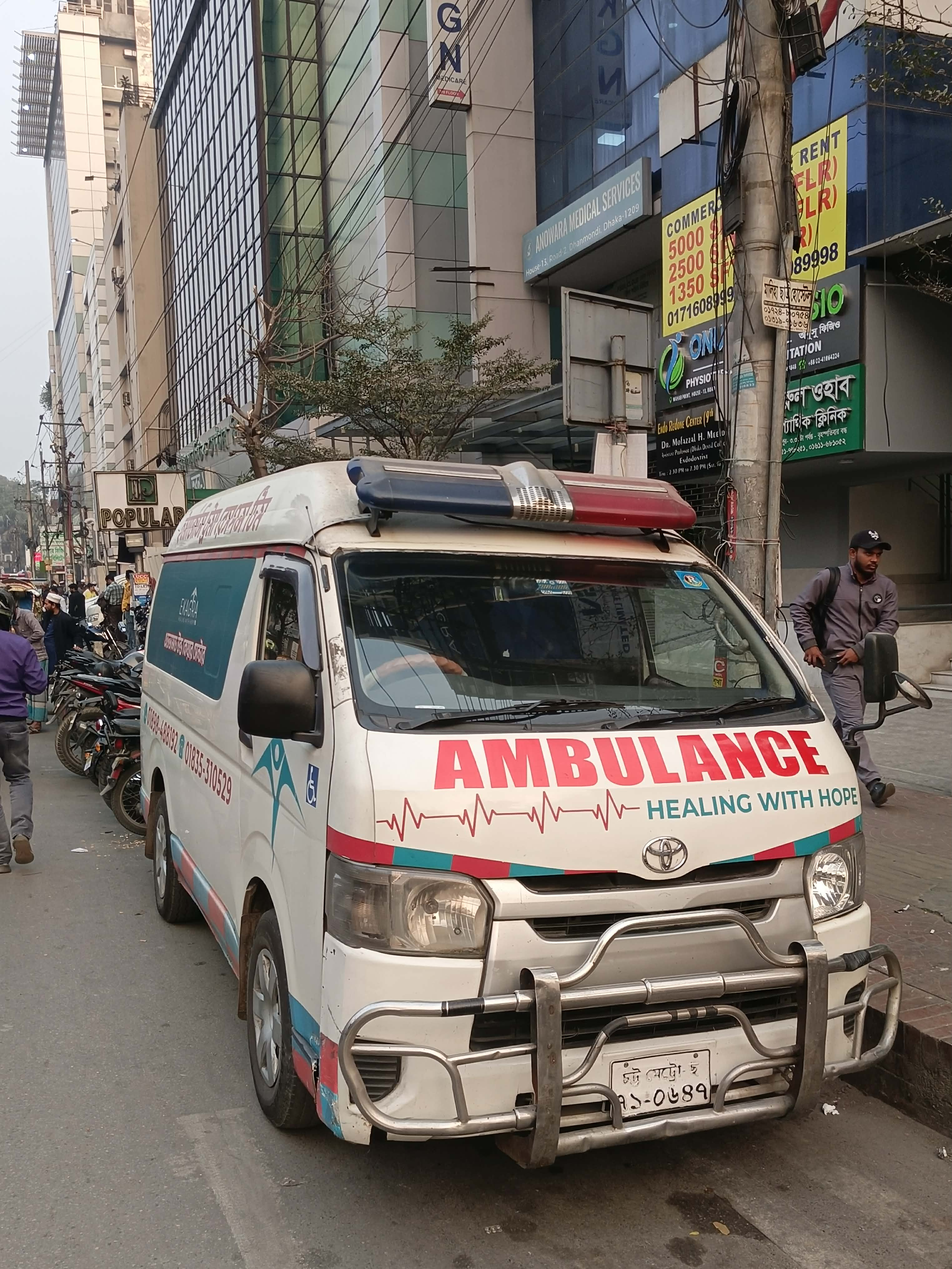Ambulance: (150, 438, 917, 1224)
Bikes: (37, 575, 165, 840)
